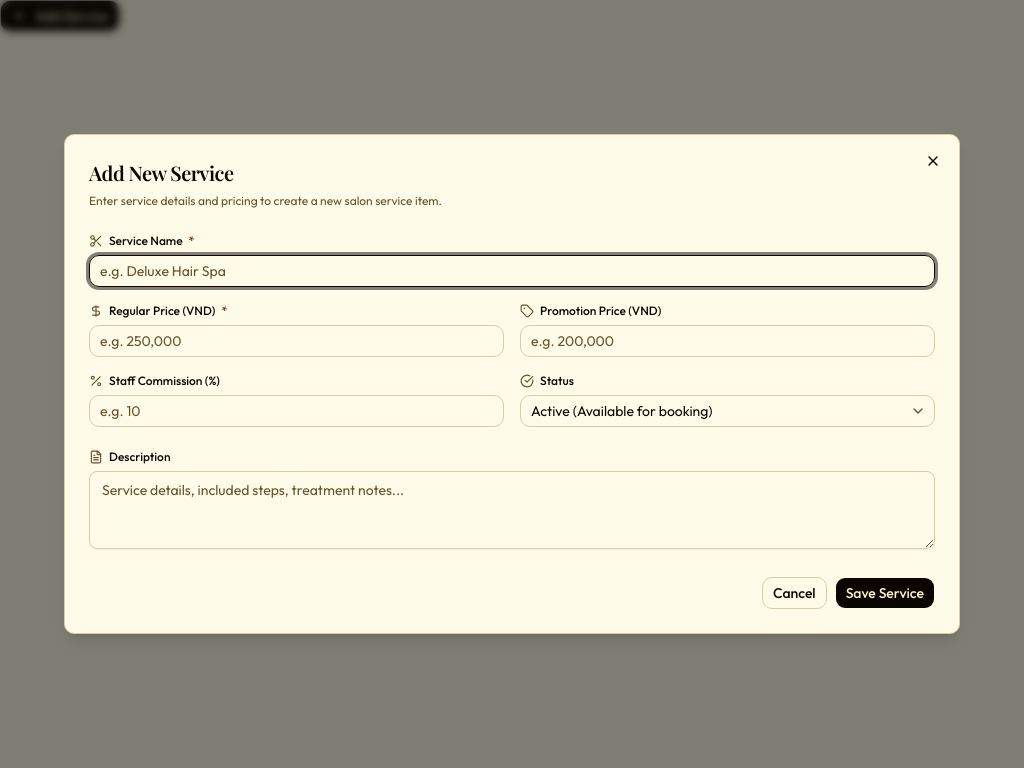
Test case: ServiceFormDialog - Create Mode › validates required fields (name and price) and displays errors
Click the button "Save Service". click: point(885, 593)
box: x1=835 y1=577 x2=935 y2=609
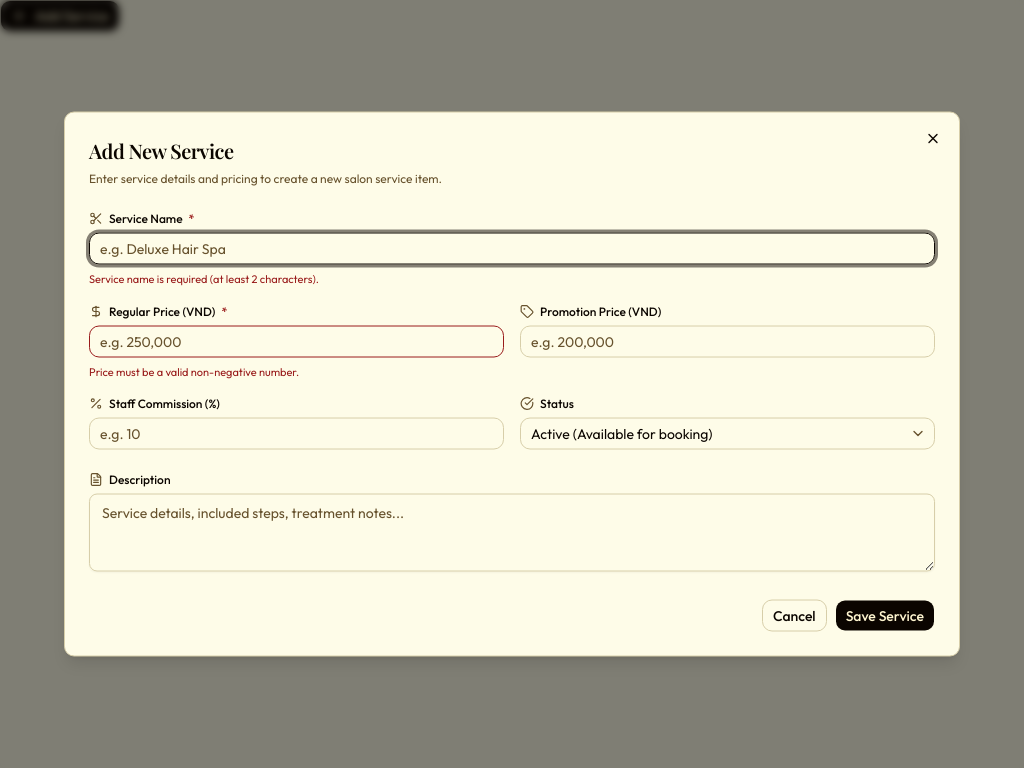
Result: the text "Service name is required (at least 2 characters)." is shown at x1=89 y1=272 x2=319 y2=286
Result: the text "Price must be a valid non-negative number." is shown at x1=89 y1=364 x2=299 y2=378
